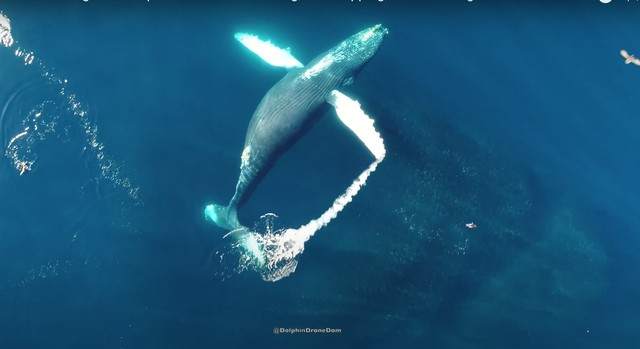whale: (193, 9, 401, 279)
